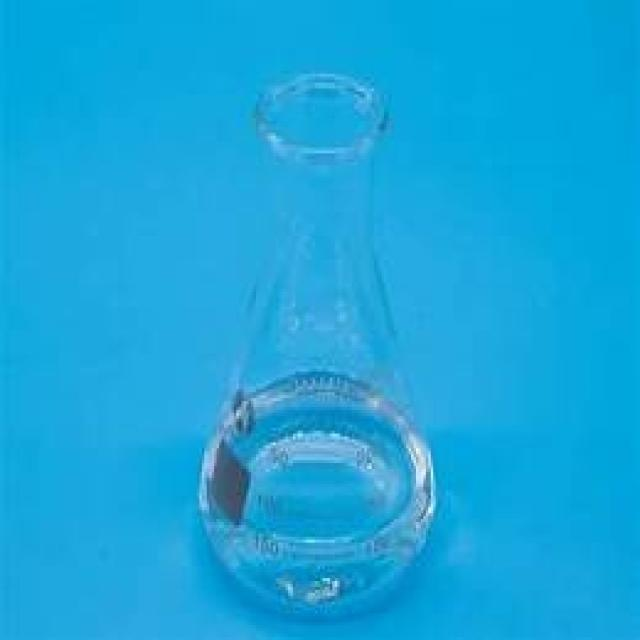Titrarion: (198, 55, 441, 618)
